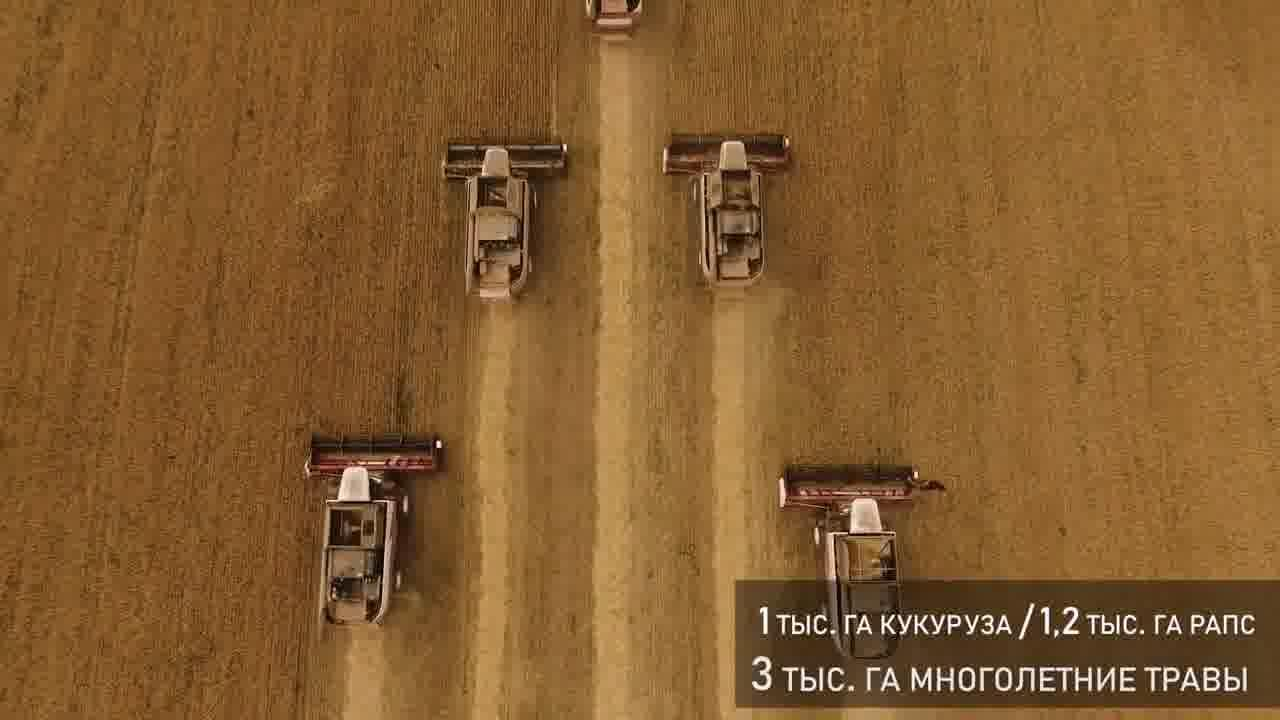combine harvester: (773, 456, 933, 665), (295, 427, 447, 637), (657, 119, 796, 301), (435, 132, 573, 307), (579, 0, 652, 47)
